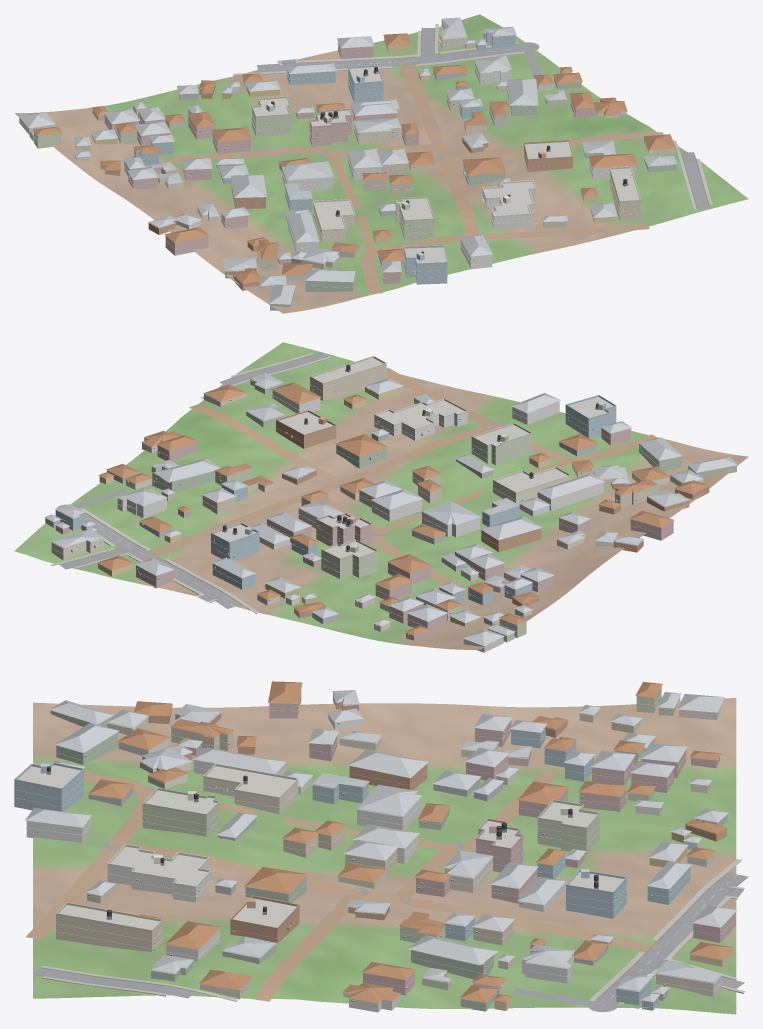
3 renders of one model, top to bottom at view 1: azimuth 30°, elevation 25°; view 2: azimuth 150°, elevation 25°; view 3: azimuth 270°, elevation 25°, orthographic. The views are drawn at different scales.
Visible parts, largest first — view 1: Buildings-col, Terrain-col, Roads-col, Details, Sidewalks-col; view 2: Buildings-col, Terrain-col, Roads-col, Details, Sidewalks-col; view 3: Buildings-col, Terrain-col, Roads-col, Details, Sidewalks-col.
Part boxes in pixels (x1,y1,x2,y2): Buildings-col: (18, 17, 676, 310); Terrain-col: (14, 14, 748, 313); Roads-col: (169, 27, 710, 293); Details: (31, 25, 645, 288); Sidewalks-col: (233, 24, 712, 209); Buildings-col: (44, 358, 737, 652); Terrain-col: (14, 342, 748, 649); Roads-col: (57, 352, 657, 608); Details: (51, 356, 695, 635); Sidewalks-col: (50, 352, 331, 613); Buildings-col: (14, 681, 736, 1012); Terrain-col: (33, 698, 736, 1014); Roads-col: (26, 762, 748, 1012); Details: (14, 691, 736, 1001); Sidewalks-col: (41, 859, 745, 1004).
Bounding box in the file's own units: 269 × 19.47 × 268.
